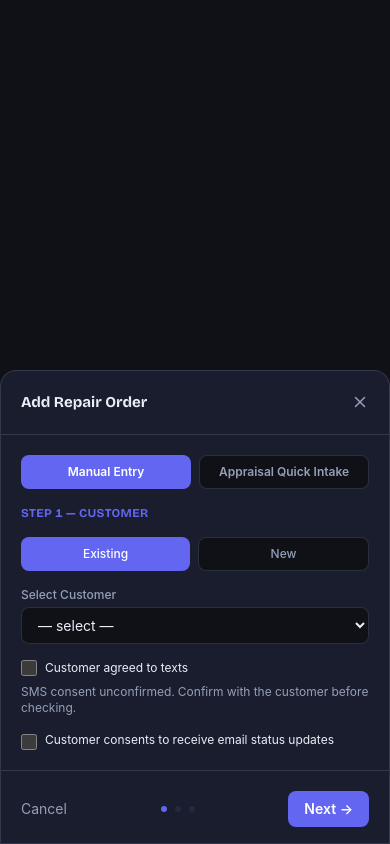
AddROModal feedback handling › requires an email before enabling customer email status updates
Click the button "New" at (284, 554), box [198, 537, 369, 571]
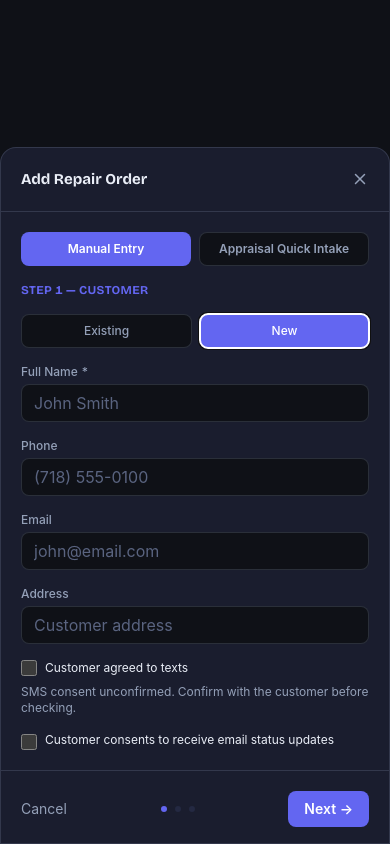
Type "Miles Customer" into the field with placeholder "John Smith" at (195, 403), box [21, 384, 369, 422]
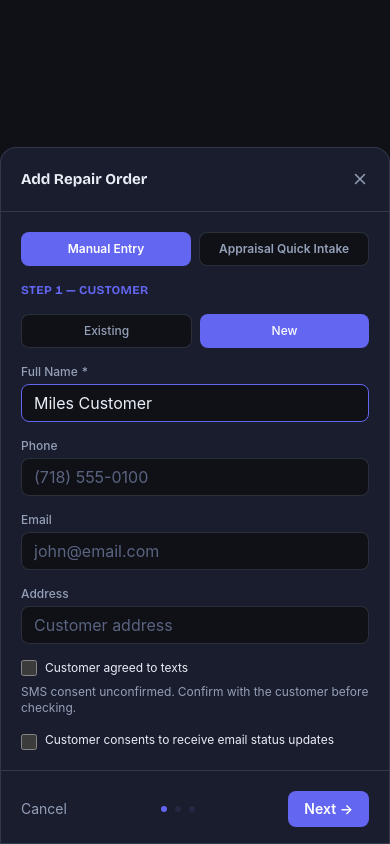
Click the checkbox labelled "Customer consents to receive email status updates" at (29, 742), box [21, 734, 37, 750]
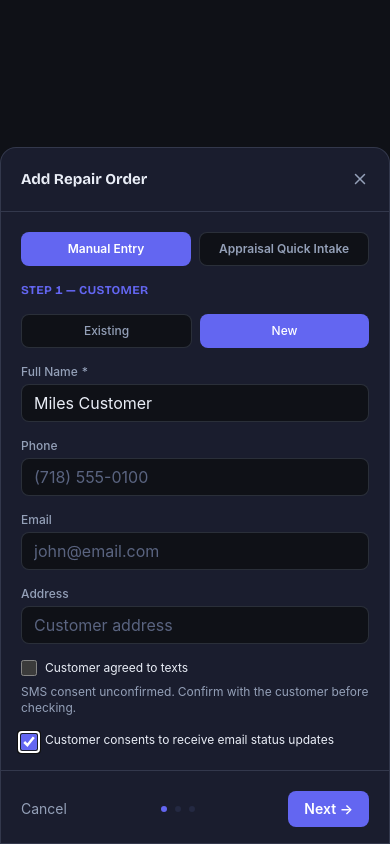
Click the button "Next →" at (329, 809), box [288, 791, 369, 827]
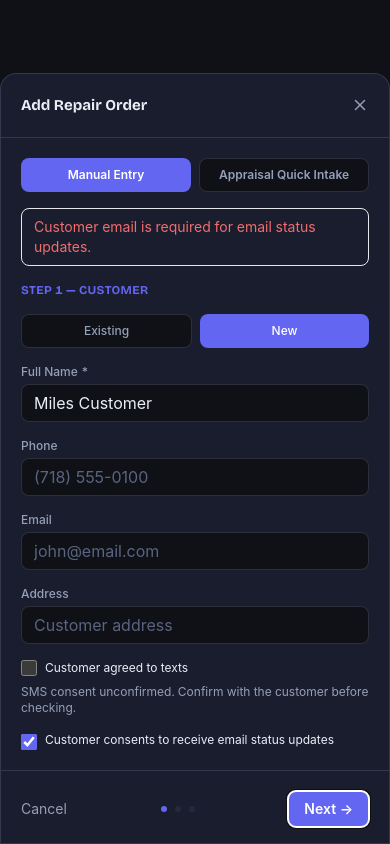
Expected: the message reads "Customer email is required for email status updates.", [34, 218, 316, 255]
